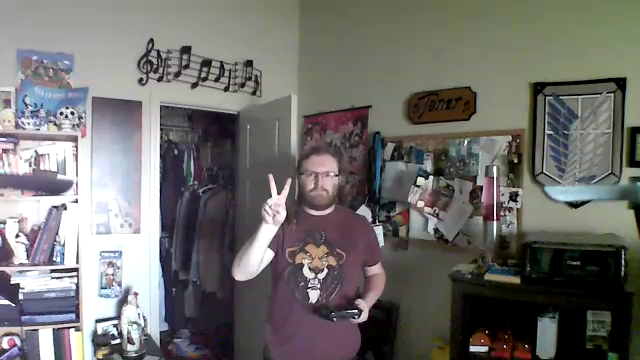peace: (255, 164, 300, 229)
